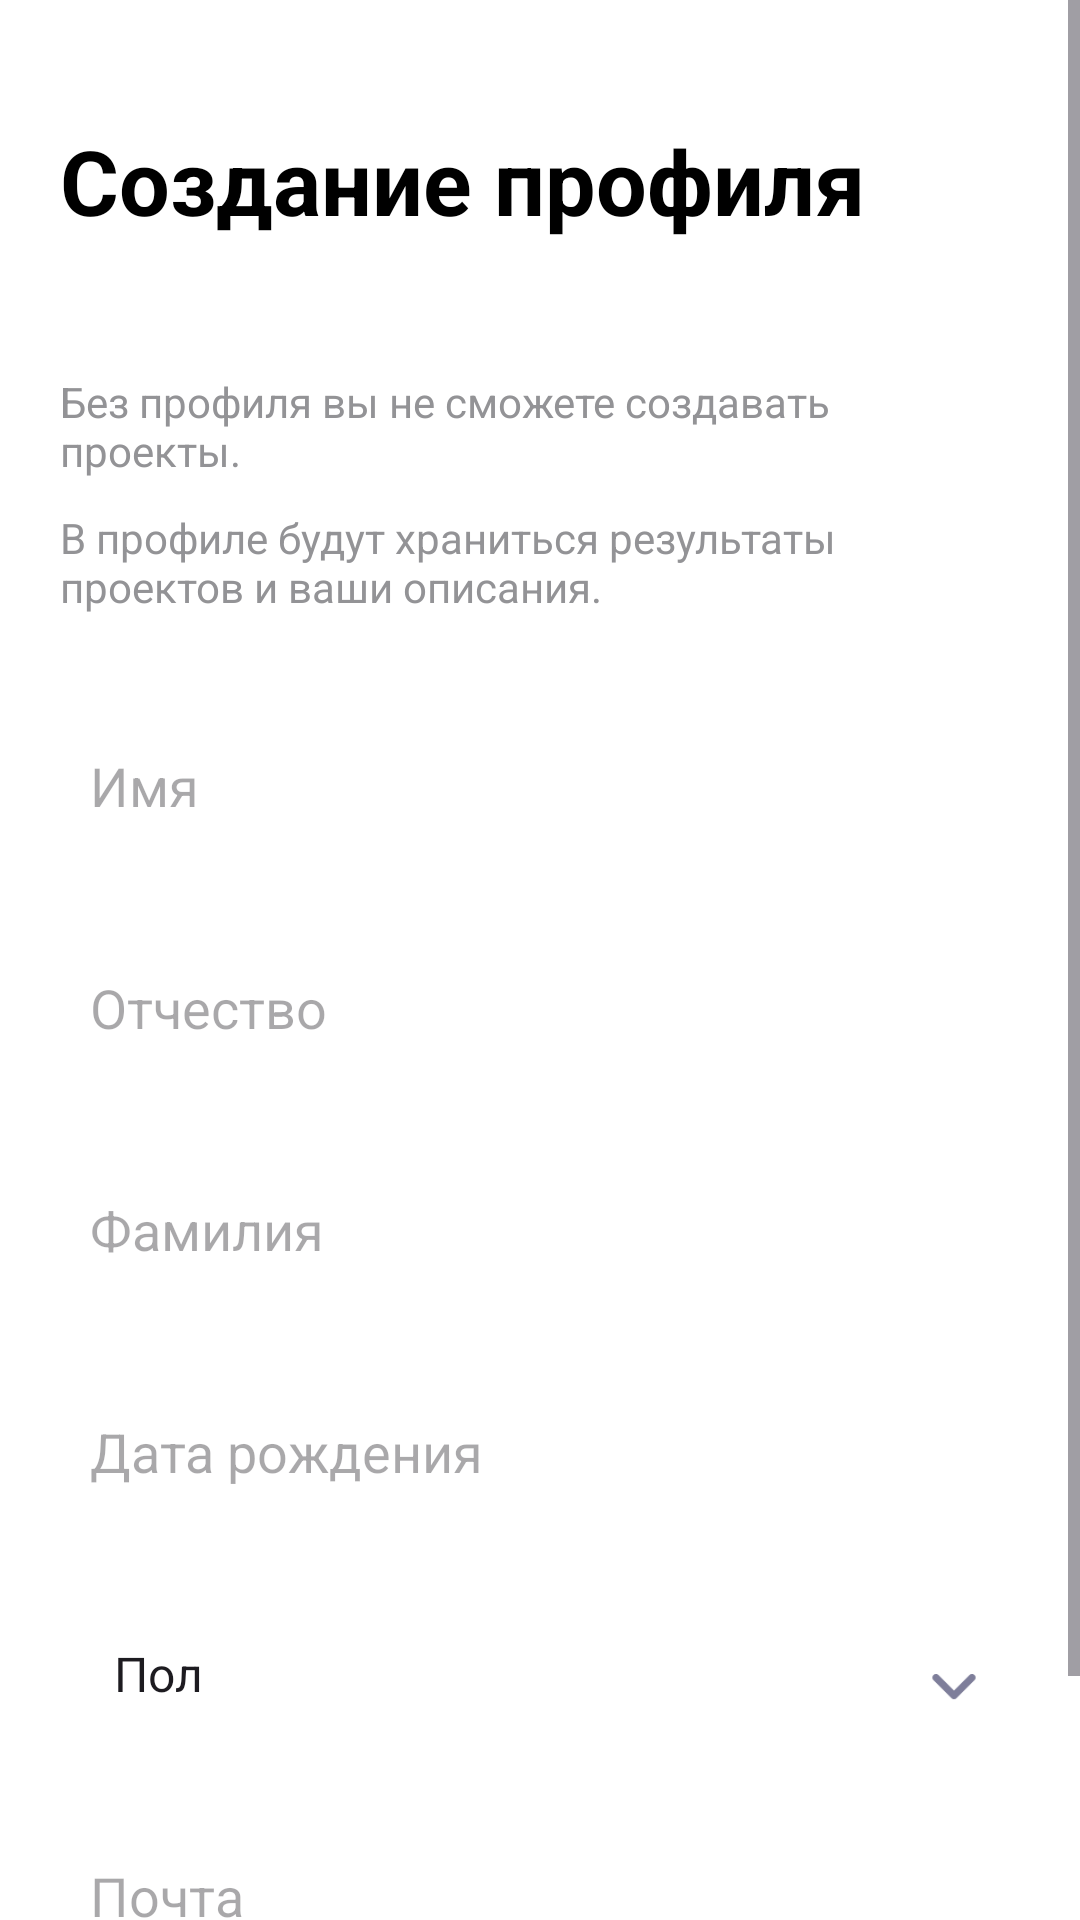

Screen size 1080 x 1920. Icon name, then its center in pixels as (x=x, y=y):
dropdown: (x=954, y=1686)
